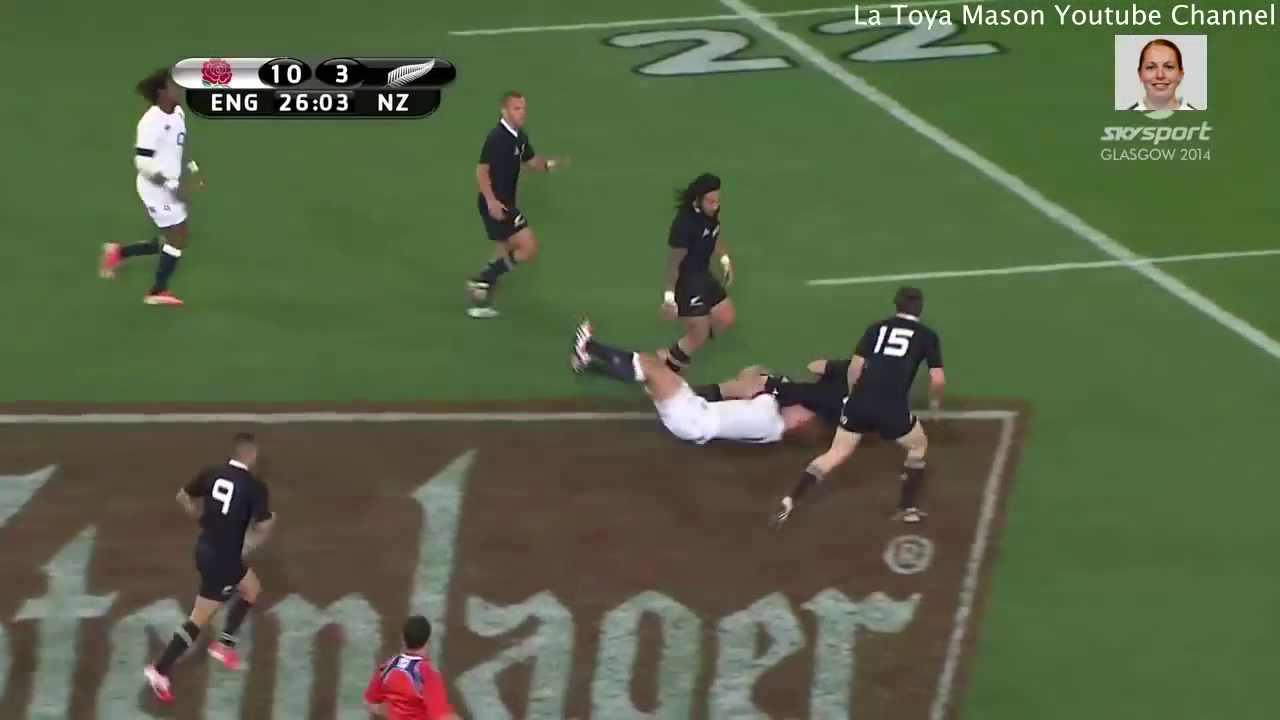player: (758, 261, 967, 544), (125, 405, 293, 704), (547, 307, 825, 456), (87, 52, 220, 321), (458, 80, 577, 319), (638, 159, 758, 374), (355, 600, 463, 720), (769, 341, 897, 436)
